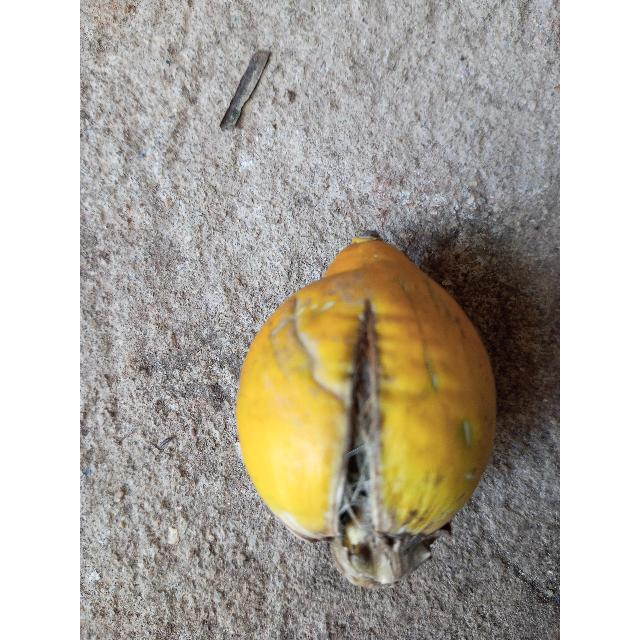damaged: (235, 236, 497, 588)
